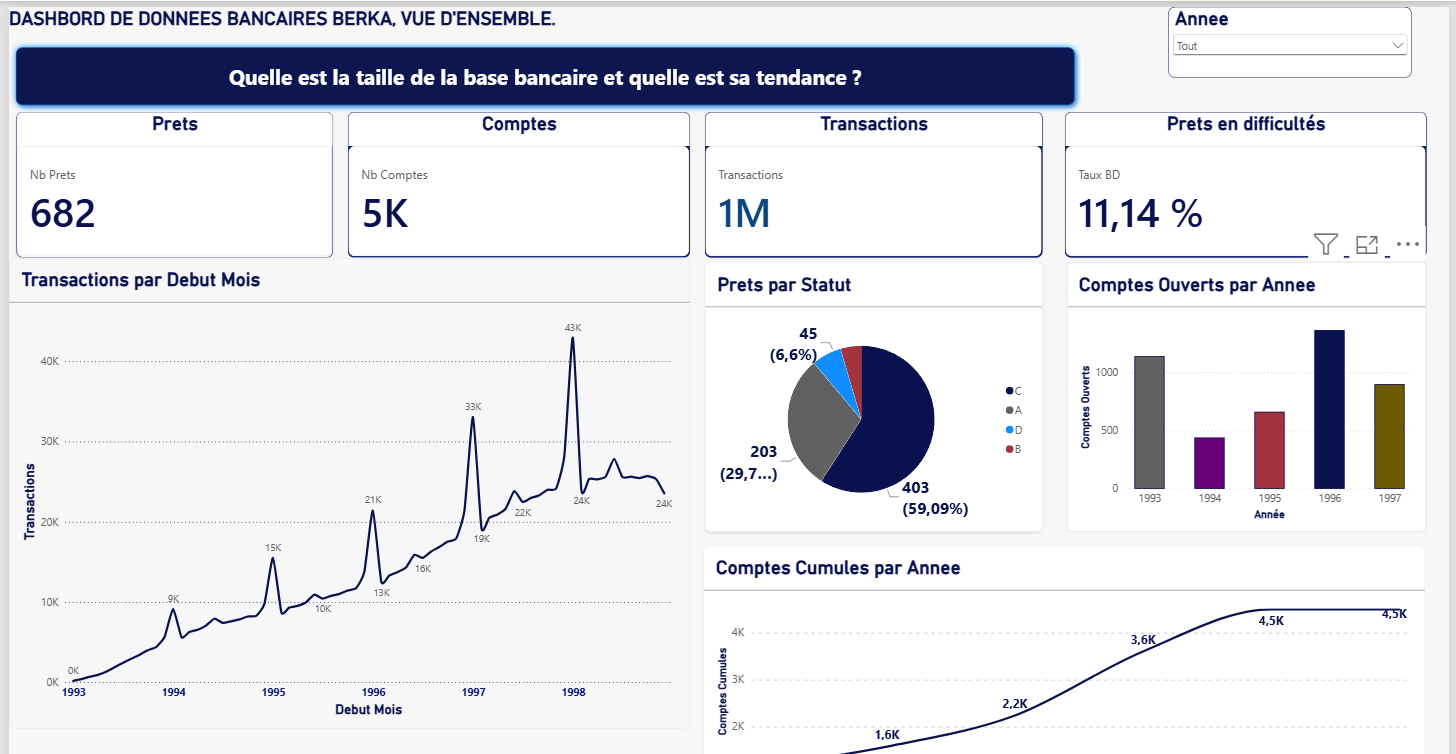

This screenshot's page, from the dashboard's own definition file:
{"tool":"powerbi","page":{"name":"vue d'ensemble","canvas":[1920,1080],"ordinal":0},"visuals":[{"type":"textbox","box":[10,0,280,280],"z":0},{"type":"textbox","box":[10,290,280,280],"z":1000},{"type":"cardVisual","title":"Prets","fields":{"Data":["Table_Mesures (3).Nb Prets"]},"box":[10,140,422,194],"z":2000},{"type":"cardVisual","title":"Transactions","fields":{"Data":["Table_Mesures (3).Transactions"]},"box":[928,140,450,194],"z":3000},{"type":"cardVisual","title":"Comptes","fields":{"Data":["Table_Mesures (3).Nb Comptes"]},"box":[452,140,456,194],"z":4000},{"type":"cardVisual","title":"Prets en difficultés","fields":{"Data":["Table_Mesures (3).Taux BD"]},"box":[1408,140,482,194],"z":5000},{"type":"lineChart","title":"Transactions par Debut Mois","fields":{"Y":["Table_Mesures (3).Transactions"],"Category":["DimCalendrier.DebutMois"]},"box":[0,334,908,628],"z":6000},{"type":"donutChart","title":"Prets par Statut","fields":{"Category":["DimStatut.statut_pret"],"Y":["Table_Mesures (3).Nb Prets"]},"box":[928,340,450,360],"z":7000},{"type":"clusteredColumnChart","fields":{"Category":["DimCalendrier.Annee"],"Y":["Table_Mesures (3).Comptes Ouverts"]},"box":[1410,340,480,360],"z":8000},{"type":"lineChart","fields":{"Category":["DimCalendrier.Annee"],"Y":["Table_Mesures (3).Comptes Cumules"]},"box":[926,718,962,362],"z":9000},{"type":"slicer","fields":{"Values":["DimCalendrier.Annee"]},"box":[1546,0,324,94],"z":10000},{"type":"shape","title":"DASHBORD DE DONNEES BANCAIRES BERKA, VUE D''ENSEMBLE.","box":[0,0,1430,140],"z":11000}]}

Visuals, with their boxes on the page's 1920x1080 design canvas (x1, y1, x2, y2). These are canvas units, not pixel positions in the 1456x754 screenshot, which may show the page scaled, cropped or inside an application window:
textbox: {"left": 10, "top": 0, "right": 290, "bottom": 280}
textbox: {"left": 10, "top": 290, "right": 290, "bottom": 570}
"Prets" cardVisual: {"left": 10, "top": 140, "right": 432, "bottom": 334}
"Transactions" cardVisual: {"left": 928, "top": 140, "right": 1378, "bottom": 334}
"Comptes" cardVisual: {"left": 452, "top": 140, "right": 908, "bottom": 334}
"Prets en difficultés" cardVisual: {"left": 1408, "top": 140, "right": 1890, "bottom": 334}
"Transactions par Debut Mois" lineChart: {"left": 0, "top": 334, "right": 908, "bottom": 962}
"Prets par Statut" donutChart: {"left": 928, "top": 340, "right": 1378, "bottom": 700}
clusteredColumnChart - DimCalendrier.Annee x Table_Mesures (3).Comptes Ouverts: {"left": 1410, "top": 340, "right": 1890, "bottom": 700}
lineChart - DimCalendrier.Annee x Table_Mesures (3).Comptes Cumules: {"left": 926, "top": 718, "right": 1888, "bottom": 1080}
slicer - DimCalendrier.Annee: {"left": 1546, "top": 0, "right": 1870, "bottom": 94}
"DASHBORD DE DONNEES BANCAIRES BERKA, VUE D''ENSEMBLE." shape: {"left": 0, "top": 0, "right": 1430, "bottom": 140}
